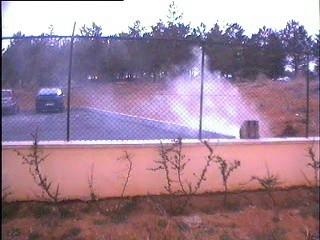smoke: (137, 43, 272, 138)
